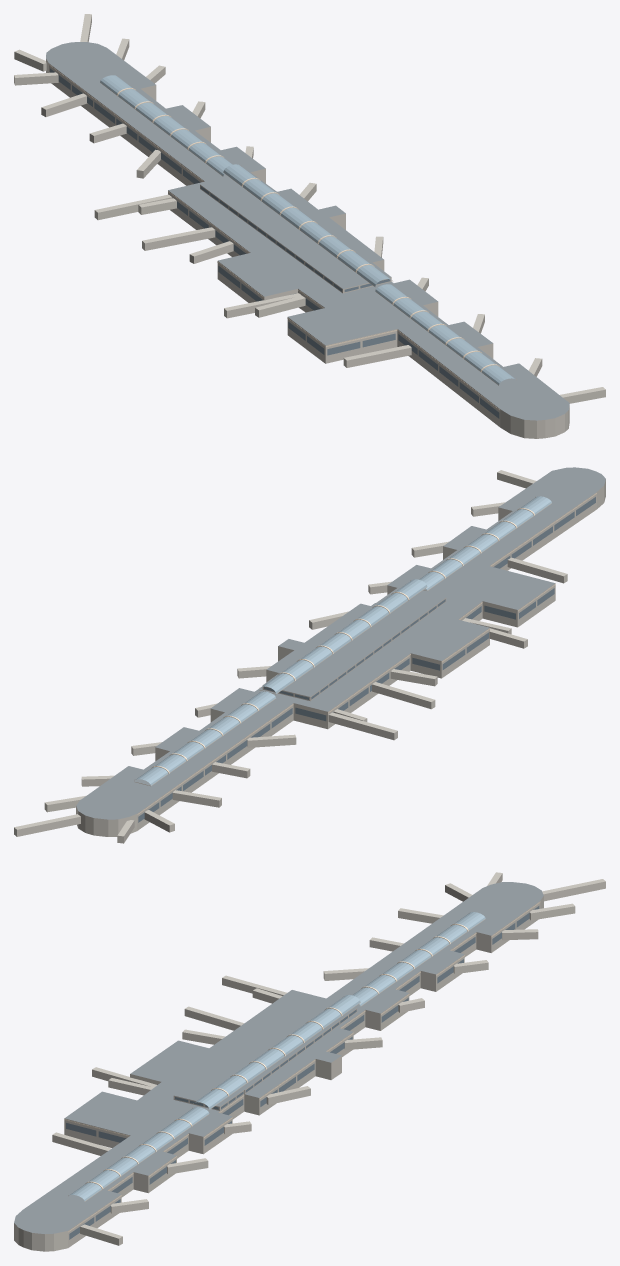
The model's file is chi-ohare-terminal-1-concourse-c.glb.
3 views of the same model, one above another, from view 1: azimuth 30°, elevation 25°; view 2: azimuth 150°, elevation 25°; view 3: azimuth 330°, elevation 25° (orthographic). The views are drawn at different scales.
Parts seen in each view (by area): view 1: O'Hare Terminal 1 Concourse C; view 2: O'Hare Terminal 1 Concourse C; view 3: O'Hare Terminal 1 Concourse C.
Part boxes in pixels (x1=…): O'Hare Terminal 1 Concourse C: x1=14, y1=14, x2=605, y2=438; O'Hare Terminal 1 Concourse C: x1=14, y1=467, x2=605, y2=843; O'Hare Terminal 1 Concourse C: x1=14, y1=872, x2=605, y2=1251.
Bounding box in the file's own units: 114 × 15.6 × 517.
